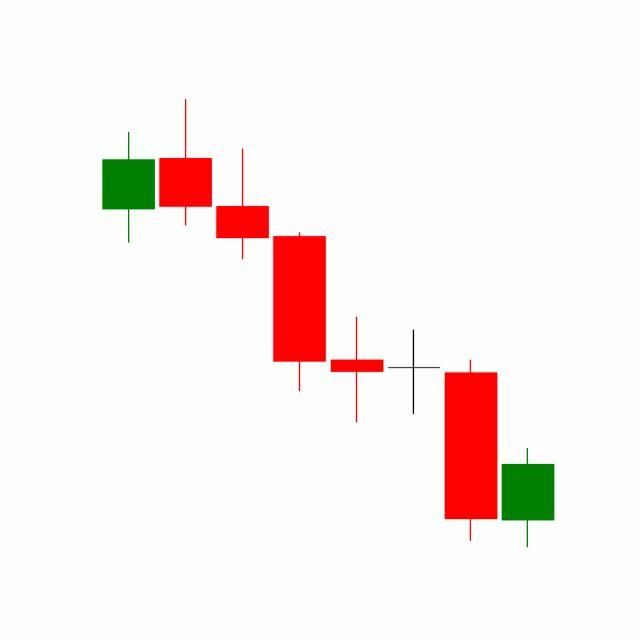Hikkake Pattern: (214, 144, 501, 546)
